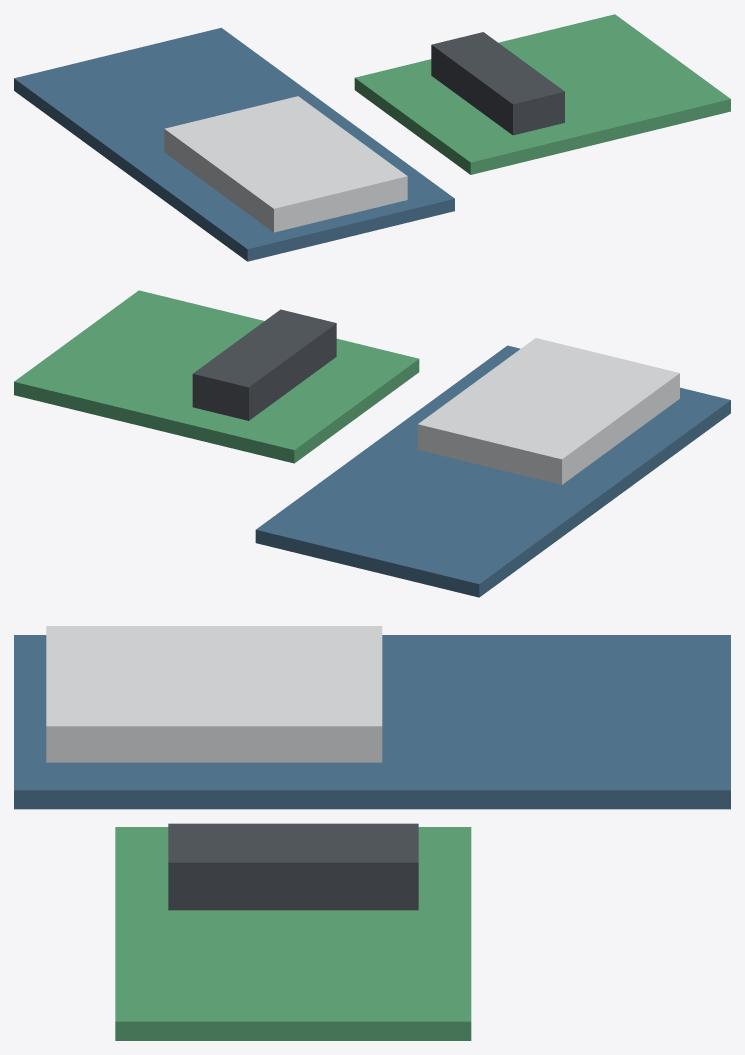
Rendered from fase2_tapa_componentes.glb.
The picture shows the model from 3 angles, top to bottom: view 1: azimuth 30°, elevation 25°; view 2: azimuth 150°, elevation 25°; view 3: azimuth 270°, elevation 25°; orthographic projection. The views are drawn at different scales.
Visible parts, largest first — view 1: =>[0:1:1:4], =>[0:1:1:8], =>[0:1:1:6], =>[0:1:1:10]; view 2: =>[0:1:1:4], =>[0:1:1:8], =>[0:1:1:6], =>[0:1:1:10]; view 3: =>[0:1:1:4], =>[0:1:1:8], =>[0:1:1:6], =>[0:1:1:10].
Part boxes in pixels (x1,y1,x2,y2): =>[0:1:1:4]: (14,27,454,261); =>[0:1:1:8]: (354,14,730,174); =>[0:1:1:6]: (164,96,407,232); =>[0:1:1:10]: (431,32,564,135); =>[0:1:1:4]: (255,345,730,597); =>[0:1:1:8]: (14,290,419,463); =>[0:1:1:6]: (417,338,679,484); =>[0:1:1:10]: (192,309,336,420); =>[0:1:1:4]: (14,635,730,809); =>[0:1:1:8]: (115,827,471,1040); =>[0:1:1:6]: (46,626,382,762); =>[0:1:1:10]: (168,823,418,910).
Size of the model in its own units: 0.0695 by 0.0056 by 0.0544.
